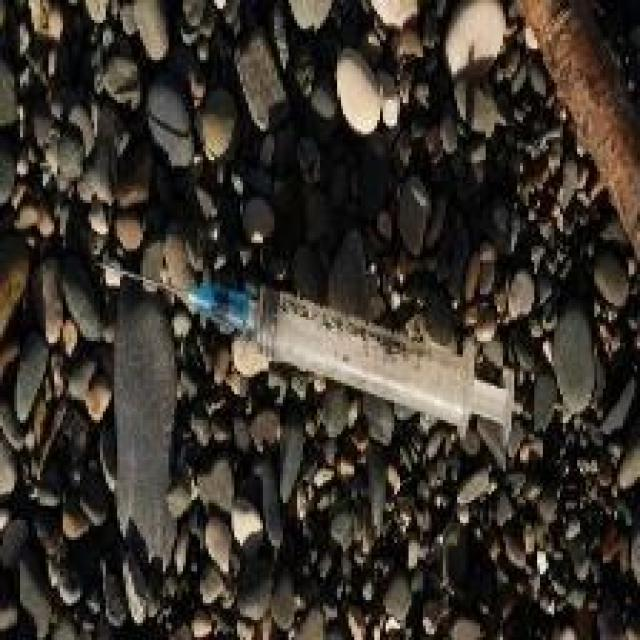syringe: (89, 213, 555, 482)
